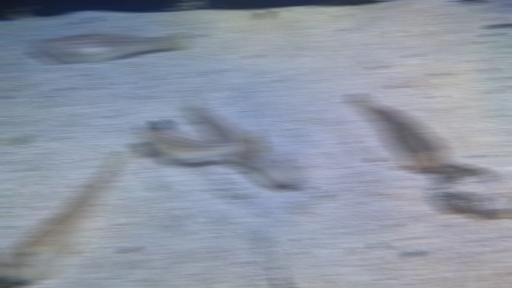Fish: (0, 148, 126, 283), (350, 93, 449, 173), (138, 120, 263, 162), (31, 32, 186, 64), (234, 141, 304, 186), (273, 267, 281, 287)
